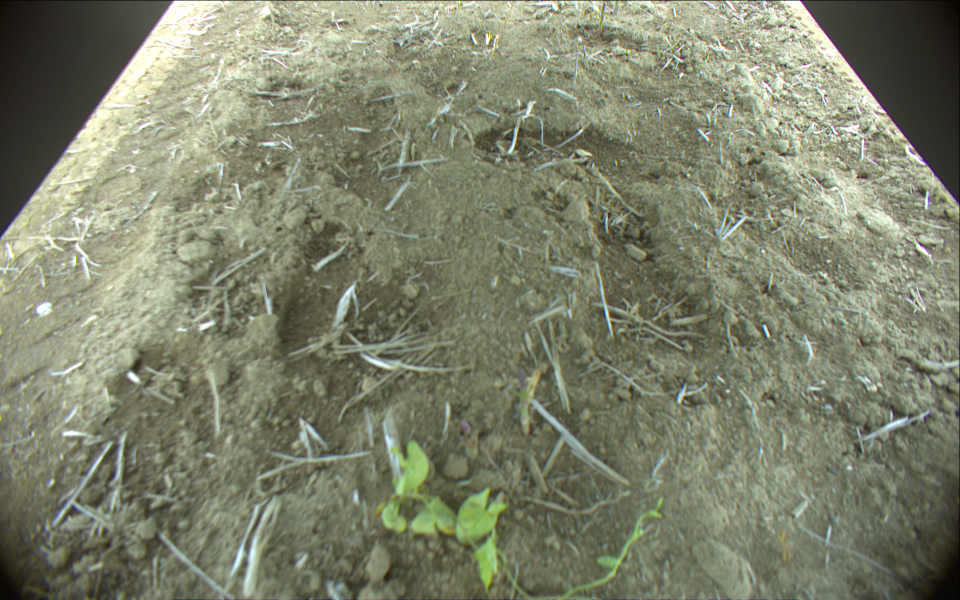aspa: (515, 371, 543, 436)
